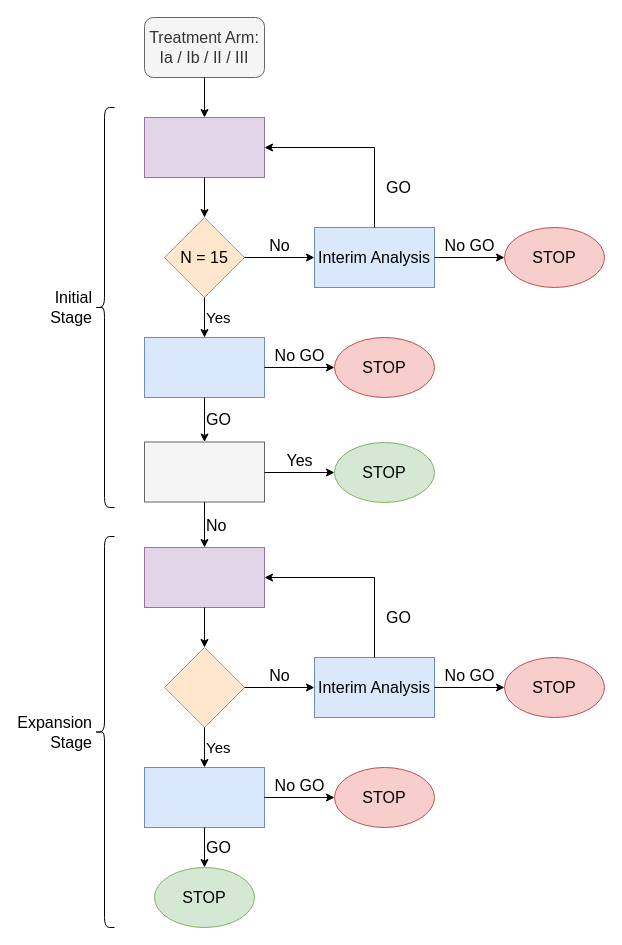
Some shapes in this 622 by 945 pixel diagram are drawn without their labels. Each missing label, with the box of its shape:
Confirmatory Analysis: (144, 766, 264, 828)
N = 30: (164, 646, 244, 728)
Recruit 3 patients: (144, 116, 264, 178)
Recruit 5 patients: (144, 546, 264, 608)
Sufficient evidence to change practice: (144, 441, 264, 502)
Transition Analysis: (144, 336, 264, 398)
